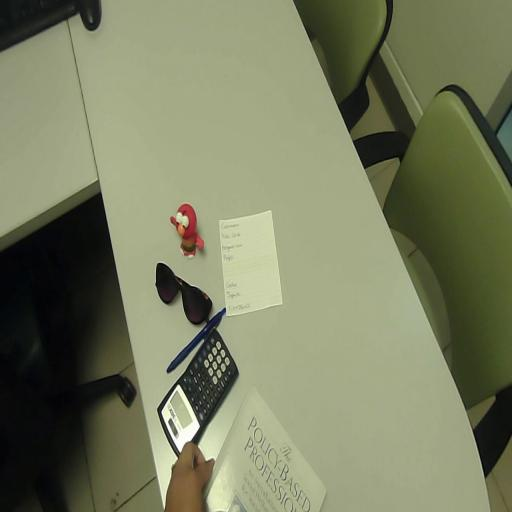pen: (167, 308, 225, 373)
